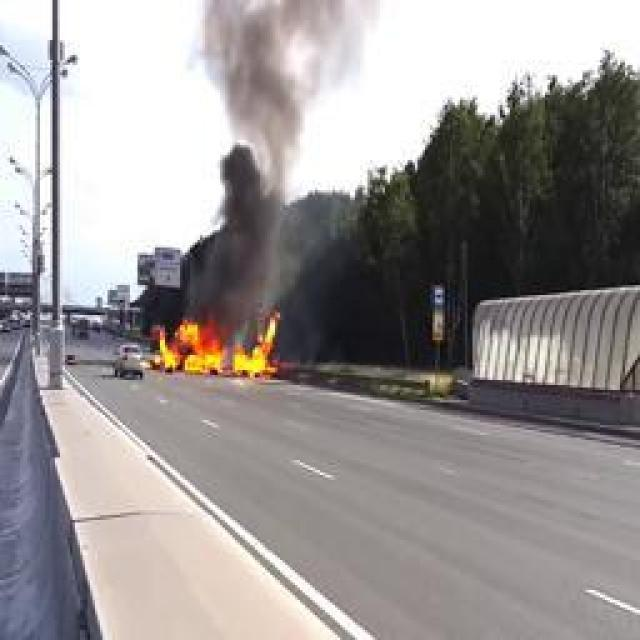Fire: (152, 312, 280, 376)
